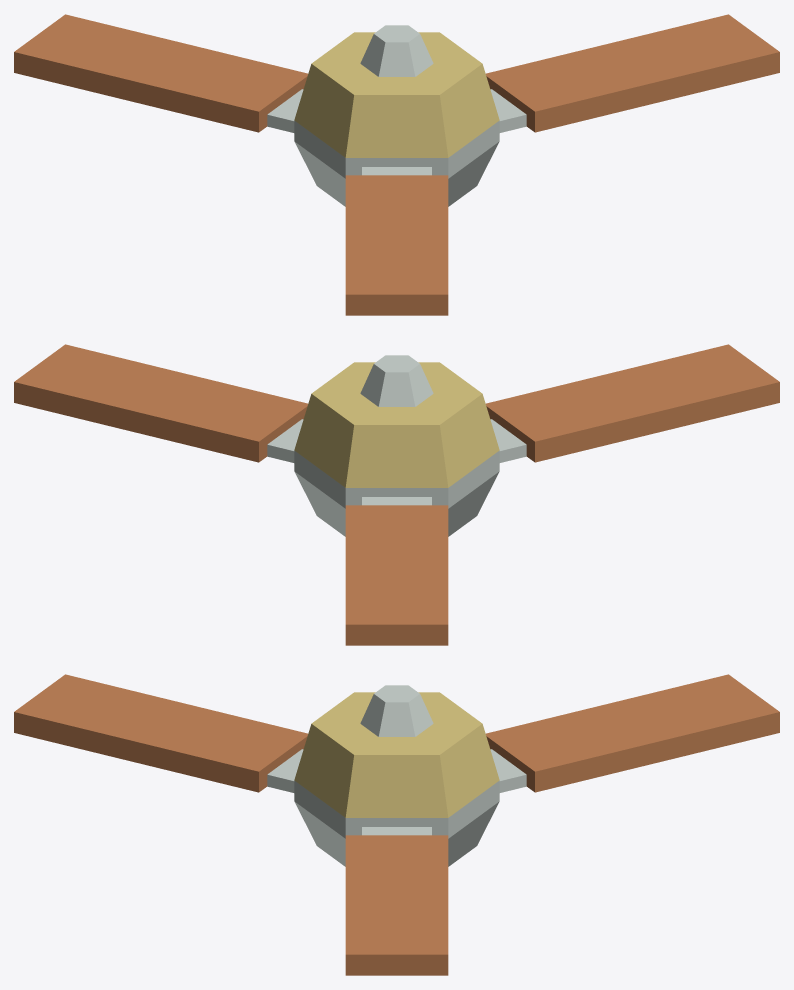
File: ceilingfan.glb
The picture shows the model from 3 angles, top to bottom: view 1: azimuth 30°, elevation 25°; view 2: azimuth 150°, elevation 25°; view 3: azimuth 270°, elevation 25°; orthographic projection.
Visible parts, largest first — view 1: geometry_0; view 2: geometry_0; view 3: geometry_0.
Part boxes in pixels (x1,y1,x2,y2): geometry_0: (14,14,779,315); geometry_0: (14,344,779,645); geometry_0: (14,674,779,975).
Size of the model in its own units: 0.866 by 0.2547 by 1.
